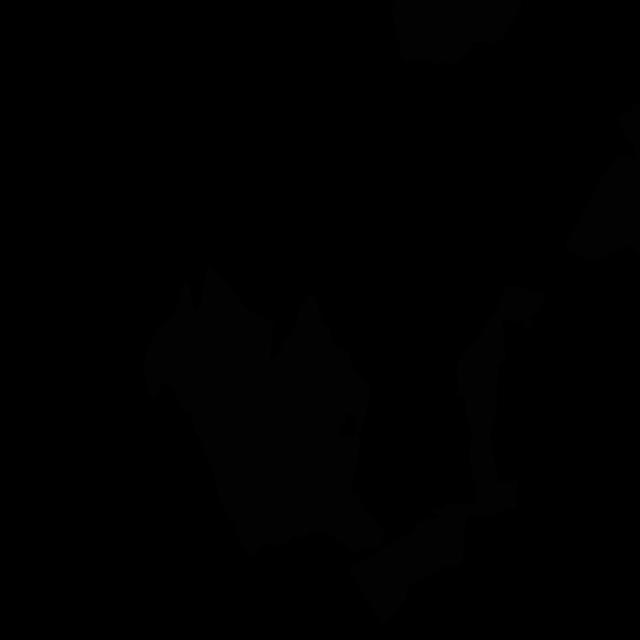cardboard: (199, 294, 386, 556), (143, 265, 275, 440), (457, 285, 544, 516), (349, 503, 468, 627), (565, 100, 640, 263), (391, 0, 522, 65)
